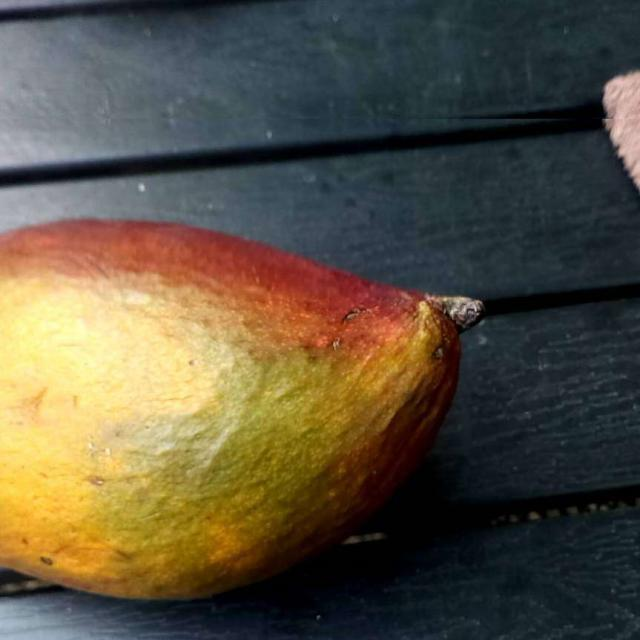mango: (4, 216, 470, 589)
